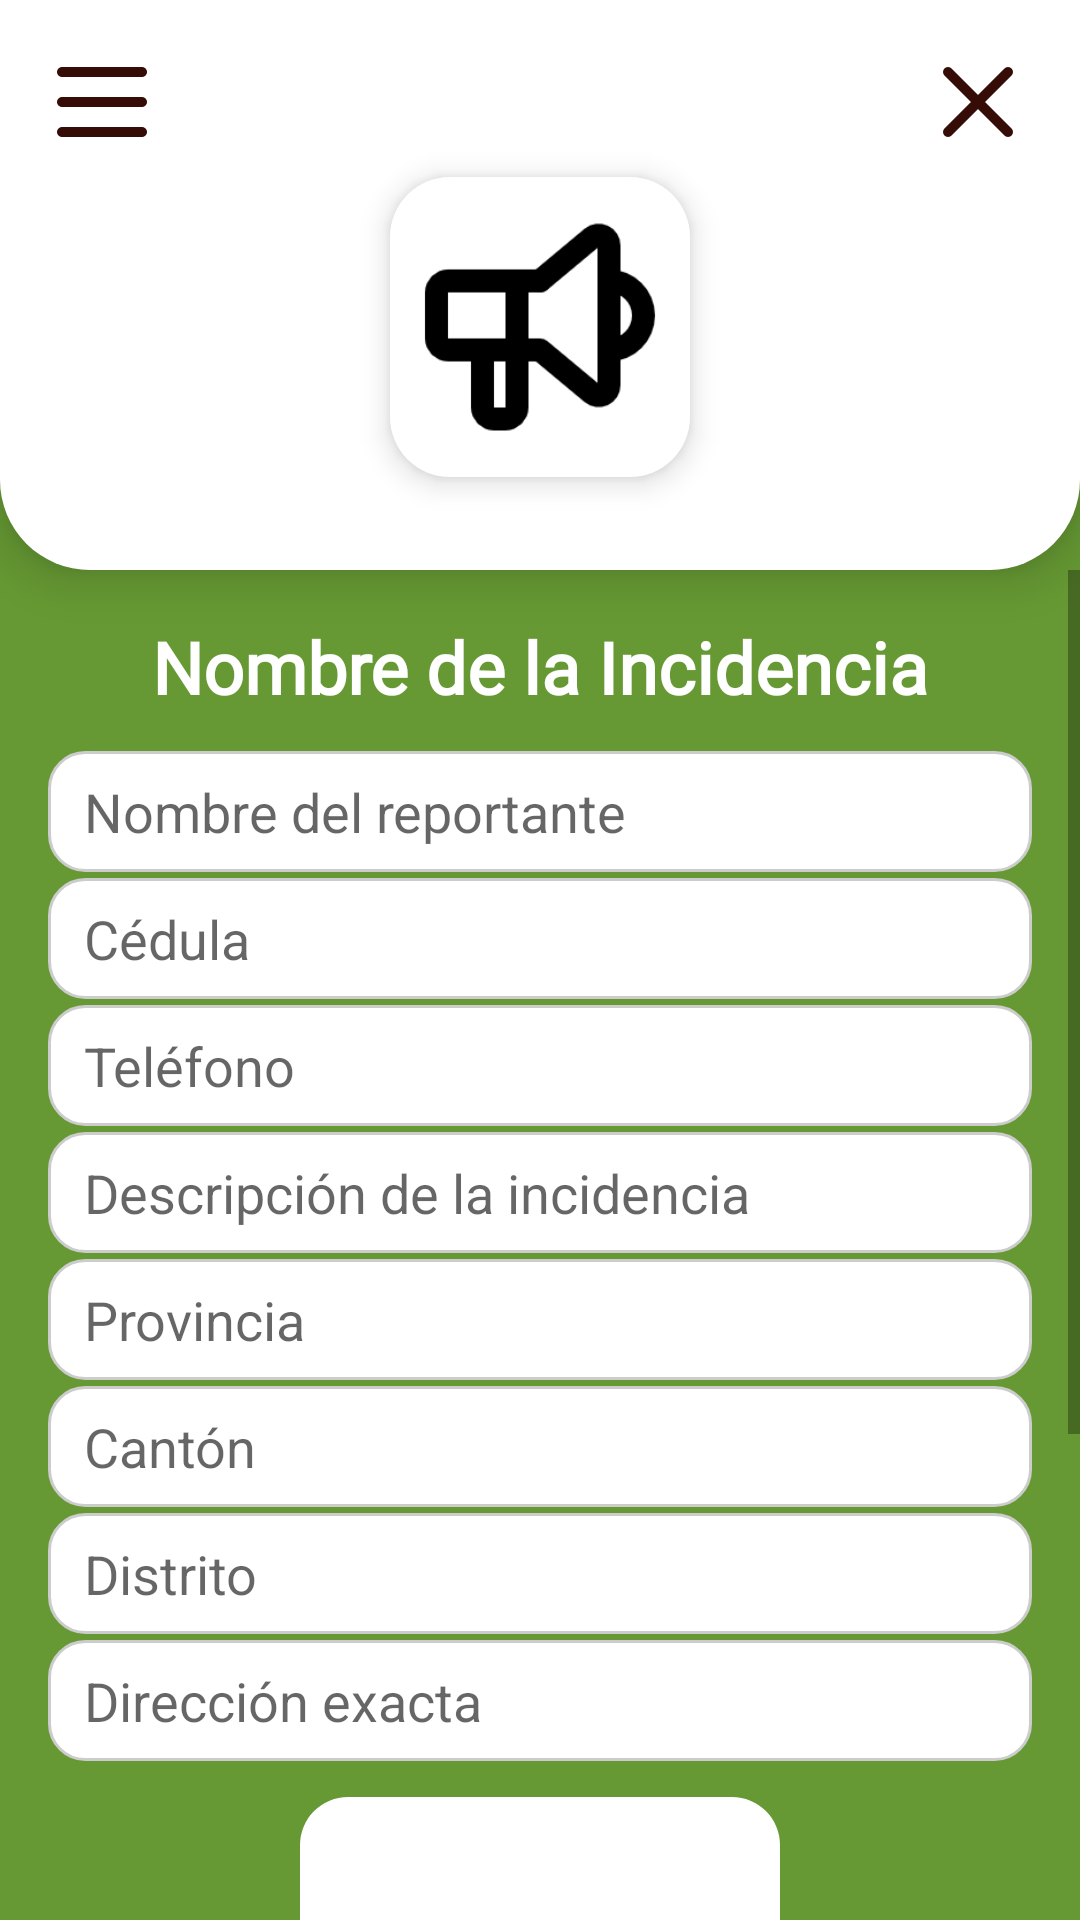

Locate icon controls on the screen. Image size 1080px×1920px, boxes as (x1,y1,x2,y2).
close: (943,67,1013,137)
menu: (57,67,147,137)
voz: (390,177,690,477)
